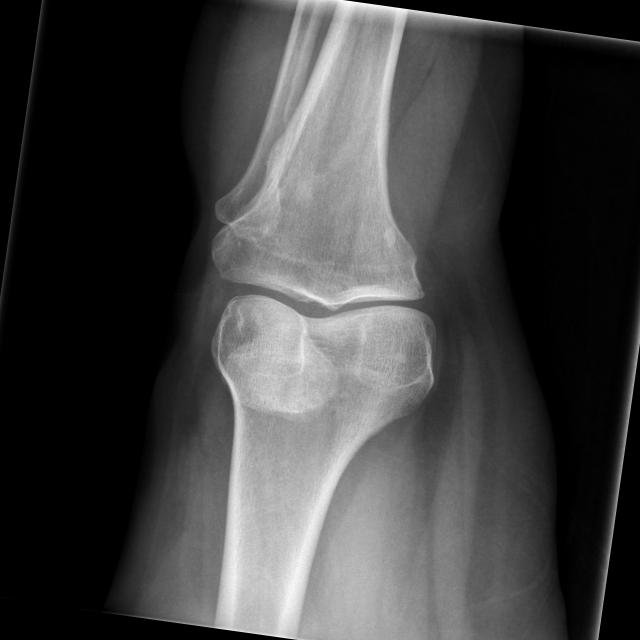Knee: (191, 206, 454, 396)
